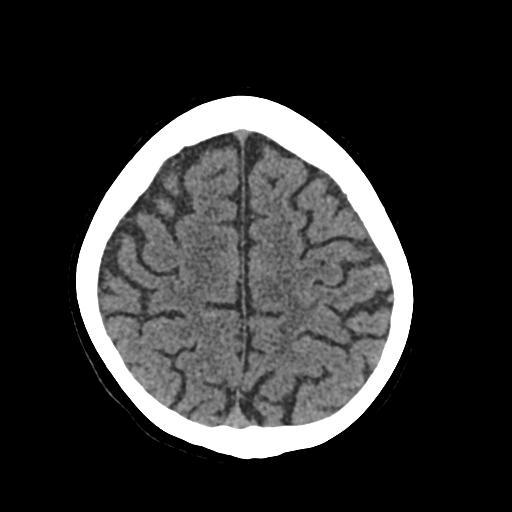Normal_Brain: (31, 49, 424, 505)
